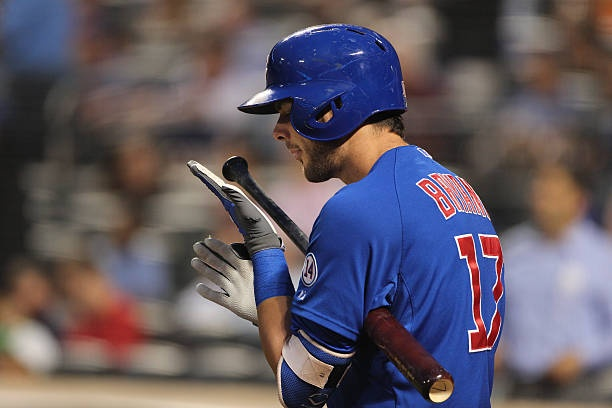bita: (221, 159, 457, 397)
